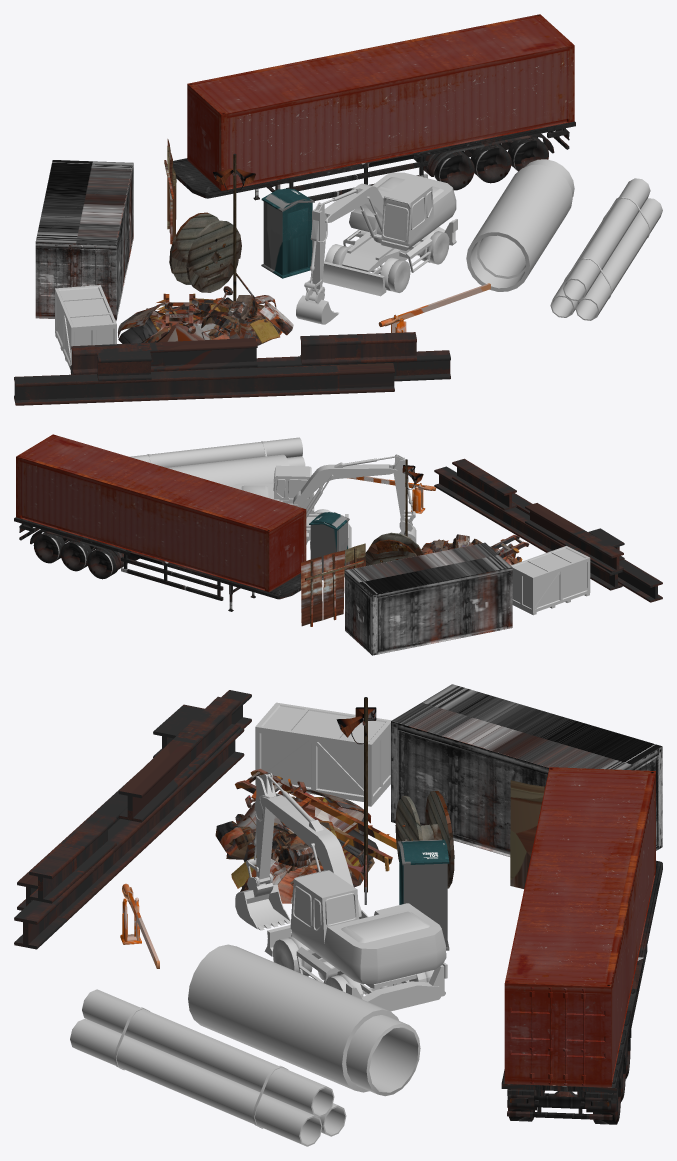
3 renders of one model, top to bottom at view 1: azimuth 30°, elevation 25°; view 2: azimuth 150°, elevation 25°; view 3: azimuth 270°, elevation 25°, orthographic. The views are drawn at different scales.
Visible parts, largest first — view 1: SP_CSS_ShipingCont_1_SP_CSS_ShipingCont_1_0, SP_CCS_MetalBeams_1_SP_CCS_MetalBeams_1_0, SP_CSS_Excavator_1_SP_CSS_Excavator_1_0, SP_CSS_ShipingCont_2_SP_CSS_ShipingCont_2_0, SP_HWS_TrailerTruck_1_SP_HWS_TrailerTruck_1_0, SP_CCS_ConcretePipe_1_SP_CCS_ConcretePipe_1_0, SP_CCS_IronPipes_1_SP_CCS_IronPipes_1_0, SP_JNK_ScrapPile_1_SP_JNK_ScrapPile_1_0, SP_CCS_CableReel_1_SP_CCS_CableReel_1_0, DP_CCS_Toilet_1_DP_CCS_Toilet_1_0, DP_CSS_WoodBox_1_DP_CSS_WoodBox_1_0, SP_RST_Loudspeaker_1_SP_RST_Loudspeaker_1_0 (+2 smaller); view 2: SP_CSS_ShipingCont_1_SP_CSS_ShipingCont_1_0, SP_CSS_ShipingCont_2_SP_CSS_ShipingCont_2_0, SP_CCS_MetalBeams_1_SP_CCS_MetalBeams_1_0, SP_HWS_TrailerTruck_1_SP_HWS_TrailerTruck_1_0, SP_CSS_Excavator_1_SP_CSS_Excavator_1_0, DP_CSS_WoodBox_1_DP_CSS_WoodBox_1_0, DP_JNK_FenceRust_1_DP_JNK_FenceRust_1_0, SP_CCS_IronPipes_1_SP_CCS_IronPipes_1_0, SP_CCS_ConcretePipe_1_SP_CCS_ConcretePipe_1_0, DP_CCS_Toilet_1_DP_CCS_Toilet_1_0, SP_CCS_CableReel_1_SP_CCS_CableReel_1_0, SP_JNK_ScrapPile_1_SP_JNK_ScrapPile_1_0 (+2 smaller); view 3: SP_CSS_ShipingCont_1_SP_CSS_ShipingCont_1_0, SP_CSS_ShipingCont_2_SP_CSS_ShipingCont_2_0, SP_CSS_Excavator_1_SP_CSS_Excavator_1_0, SP_CCS_ConcretePipe_1_SP_CCS_ConcretePipe_1_0, SP_CCS_MetalBeams_1_SP_CCS_MetalBeams_1_0, SP_CCS_IronPipes_1_SP_CCS_IronPipes_1_0, DP_CSS_WoodBox_1_DP_CSS_WoodBox_1_0, SP_JNK_ScrapPile_1_SP_JNK_ScrapPile_1_0, SP_HWS_TrailerTruck_1_SP_HWS_TrailerTruck_1_0, DP_CCS_Toilet_1_DP_CCS_Toilet_1_0, DP_JNK_FenceRust_1_DP_JNK_FenceRust_1_0, SP_CCS_CableReel_1_SP_CCS_CableReel_1_0 (+2 smaller).
Boxes of the visible parts, x1,y1,x2,y2 form: SP_CSS_ShipingCont_1_SP_CSS_ShipingCont_1_0: (187, 14, 574, 190); SP_CCS_MetalBeams_1_SP_CCS_MetalBeams_1_0: (14, 332, 450, 405); SP_CSS_Excavator_1_SP_CSS_Excavator_1_0: (296, 172, 457, 324); SP_CSS_ShipingCont_2_SP_CSS_ShipingCont_2_0: (35, 160, 133, 321); SP_HWS_TrailerTruck_1_SP_HWS_TrailerTruck_1_0: (173, 121, 575, 200); SP_CCS_ConcretePipe_1_SP_CCS_ConcretePipe_1_0: (466, 159, 574, 291); SP_CCS_IronPipes_1_SP_CCS_IronPipes_1_0: (550, 178, 662, 320); SP_JNK_ScrapPile_1_SP_JNK_ScrapPile_1_0: (118, 286, 293, 345); SP_CCS_CableReel_1_SP_CCS_CableReel_1_0: (169, 212, 241, 292); DP_CCS_Toilet_1_DP_CCS_Toilet_1_0: (261, 188, 314, 278); DP_CSS_WoodBox_1_DP_CSS_WoodBox_1_0: (55, 285, 116, 372); SP_RST_Loudspeaker_1_SP_RST_Loudspeaker_1_0: (213, 153, 255, 301); SP_CSS_ShipingCont_1_SP_CSS_ShipingCont_1_0: (16, 434, 306, 591); SP_CSS_ShipingCont_2_SP_CSS_ShipingCont_2_0: (345, 542, 512, 655); SP_CCS_MetalBeams_1_SP_CCS_MetalBeams_1_0: (434, 458, 662, 602); SP_HWS_TrailerTruck_1_SP_HWS_TrailerTruck_1_0: (14, 517, 300, 611); SP_CSS_Excavator_1_SP_CSS_Excavator_1_0: (232, 454, 416, 549); DP_CSS_WoodBox_1_DP_CSS_WoodBox_1_0: (511, 546, 590, 615); DP_JNK_FenceRust_1_DP_JNK_FenceRust_1_0: (301, 543, 365, 626); SP_CCS_IronPipes_1_SP_CCS_IronPipes_1_0: (129, 437, 305, 467); SP_CCS_ConcretePipe_1_SP_CCS_ConcretePipe_1_0: (166, 454, 289, 486); DP_CCS_Toilet_1_DP_CCS_Toilet_1_0: (309, 512, 349, 580); SP_CCS_CableReel_1_SP_CCS_CableReel_1_0: (365, 532, 423, 565); SP_JNK_ScrapPile_1_SP_JNK_ScrapPile_1_0: (421, 534, 529, 565); SP_CSS_ShipingCont_1_SP_CSS_ShipingCont_1_0: (504, 767, 655, 1087); SP_CSS_ShipingCont_2_SP_CSS_ShipingCont_2_0: (391, 684, 662, 856); SP_CSS_Excavator_1_SP_CSS_Excavator_1_0: (235, 772, 447, 1011); SP_CCS_ConcretePipe_1_SP_CCS_ConcretePipe_1_0: (188, 944, 420, 1096); SP_CCS_MetalBeams_1_SP_CCS_MetalBeams_1_0: (14, 690, 251, 949); SP_CCS_IronPipes_1_SP_CCS_IronPipes_1_0: (70, 989, 346, 1146); DP_CSS_WoodBox_1_DP_CSS_WoodBox_1_0: (255, 702, 391, 806); SP_JNK_ScrapPile_1_SP_JNK_ScrapPile_1_0: (215, 768, 397, 903); SP_HWS_TrailerTruck_1_SP_HWS_TrailerTruck_1_0: (501, 860, 662, 1124); DP_CCS_Toilet_1_DP_CCS_Toilet_1_0: (397, 839, 449, 950); DP_JNK_FenceRust_1_DP_JNK_FenceRust_1_0: (510, 780, 545, 888); SP_CCS_CableReel_1_SP_CCS_CableReel_1_0: (395, 791, 454, 888).
Size of the model in its own units: 1423 by 300 by 900.
